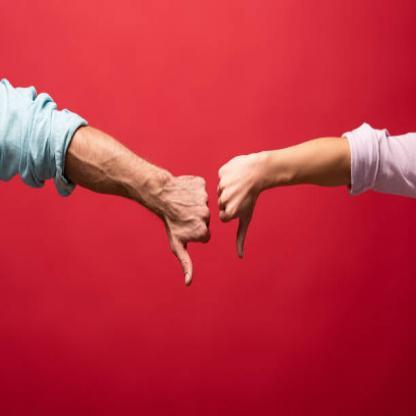thumb_down: (162, 170, 213, 289), (218, 150, 260, 262)
